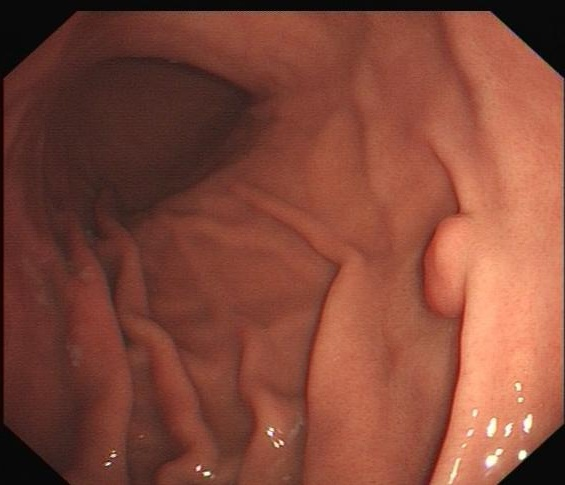Polyp: (408, 208, 496, 340)
